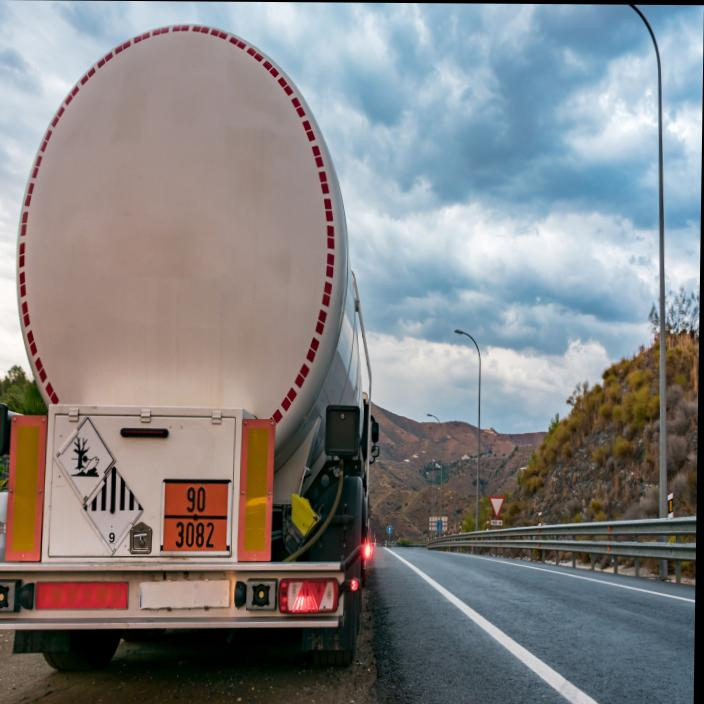elevator doors: (85, 471, 142, 553)
